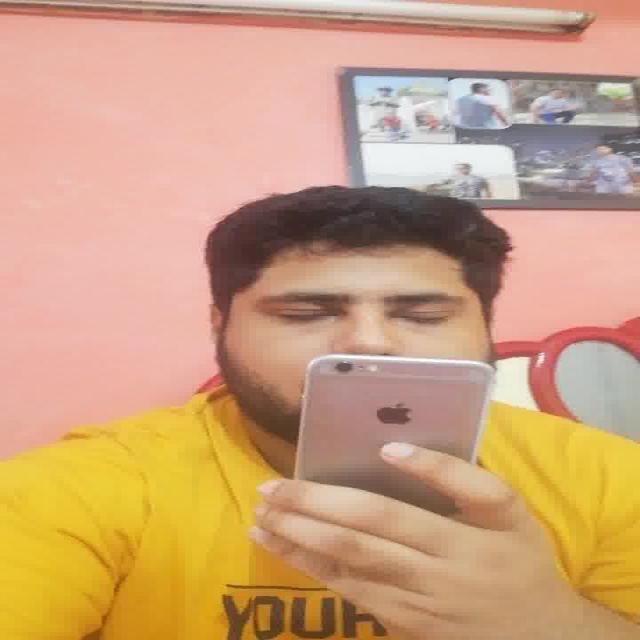Phone: (294, 350, 495, 484)
